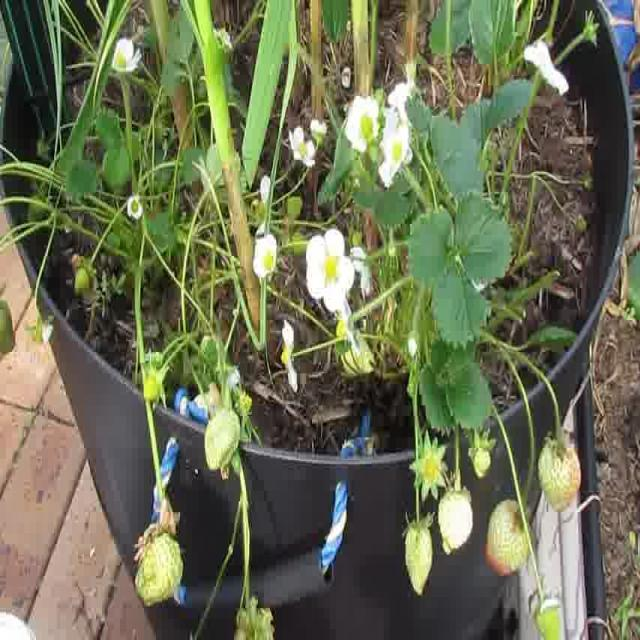Fruta sana: (484, 498, 536, 578), (135, 534, 184, 607), (538, 437, 582, 513), (205, 408, 240, 471), (234, 608, 274, 640), (0, 299, 14, 353), (473, 448, 491, 479), (28, 196, 46, 220), (144, 376, 160, 400), (287, 196, 303, 220), (292, 231, 308, 255), (74, 267, 91, 289), (36, 138, 48, 158)
Moho gris: (438, 488, 474, 548), (406, 526, 432, 596)
